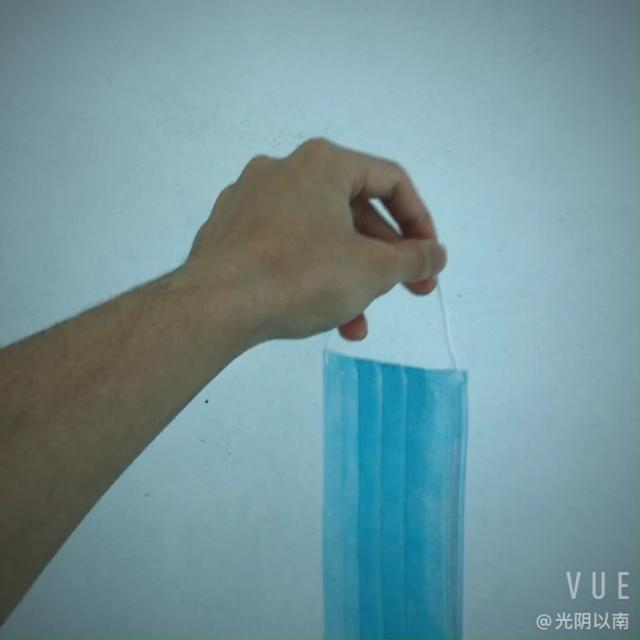non-organic waste: (268, 333, 488, 629)
